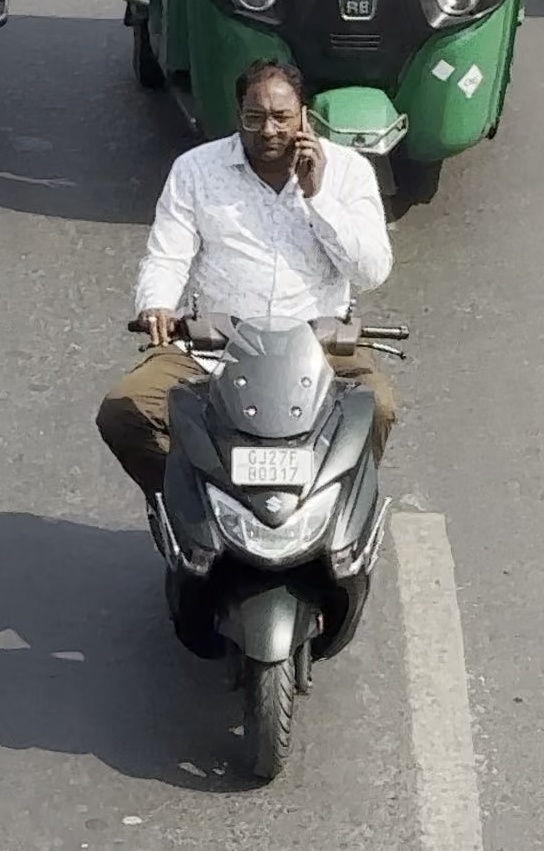BikeWithRider: (84, 49, 420, 791)
NoHelmet: (219, 49, 322, 175)
